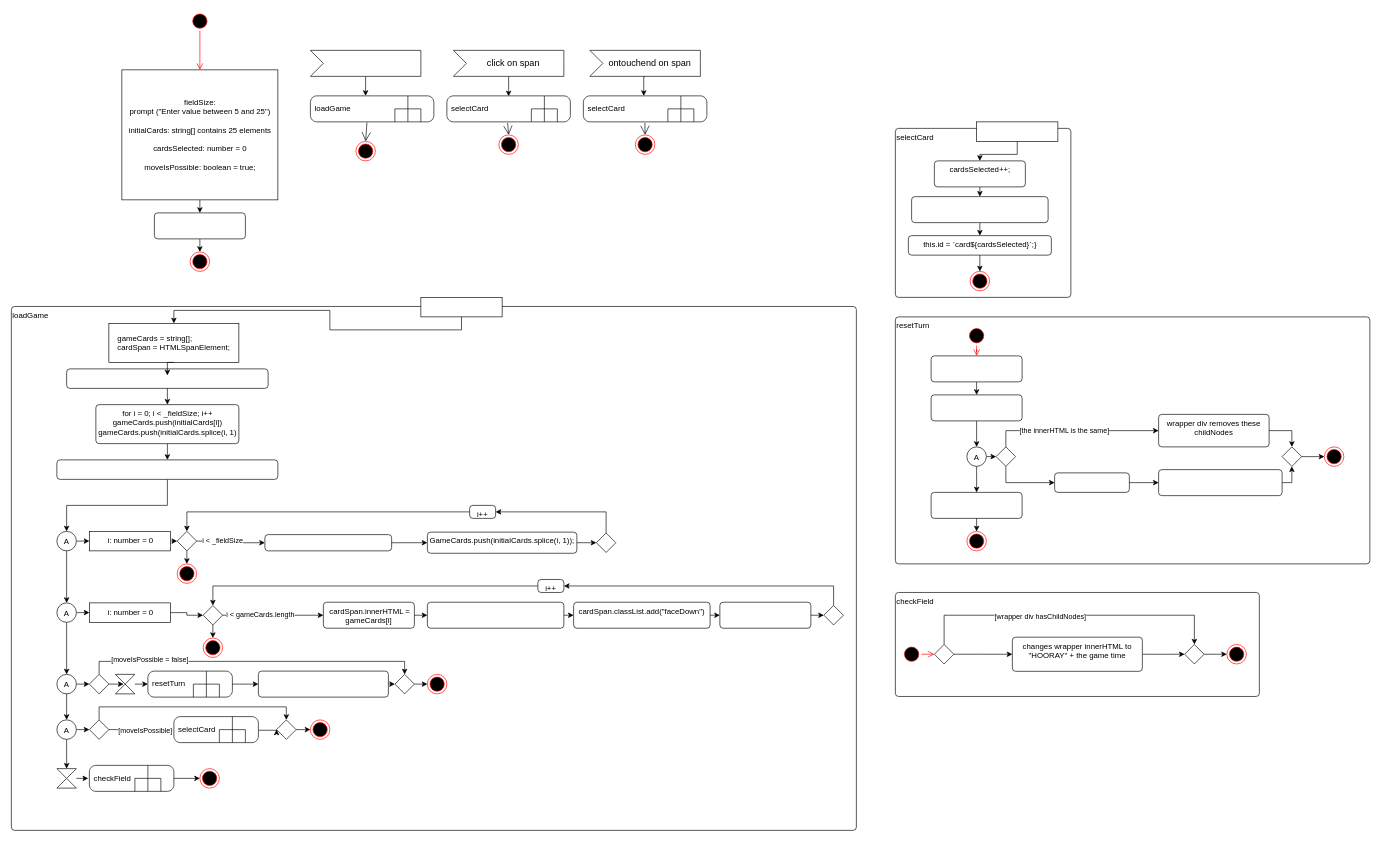
Some shapes in this 1381 by 842 pixel diagram are drawn without their labels. The shapes that lost their labels are listed below. From the top down, each one's centre as x and y in pixels, then its label:
(365,63): load
(1017,131): _event: HTMLEvent
(199,225): install load-listener
(979,209): change this.className = "faceDown" class to .faceUp
(461,307): _fieldSize: number
(167,378): initialCards = initialCards.sort(() => Math.random() - 0.5);
(976,368): moveIsPossible = true
(976,407): compares the innerHTML of the two cards with ids
(167,469): gameCards = gameCards.sort(() => Math.random() - 0.5);
(1091,482): removes ids
(1220,482): changes class .faceUp to .faceDown
(976,505): cardsSelected = 0;
(328,542): GameCards.push(initialCards[i])
(495,615): cardSpan.classList.add("class")
(765,615): Append wrapper by cardSpan
(323,683): moveIsPossible = !moveIsPossible
